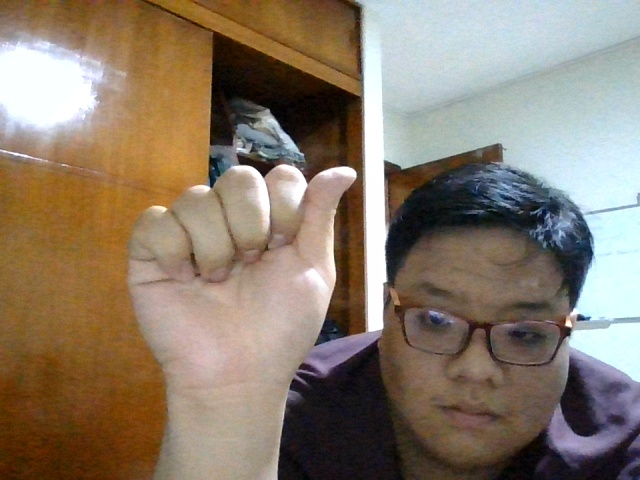a: (121, 160, 360, 382)
